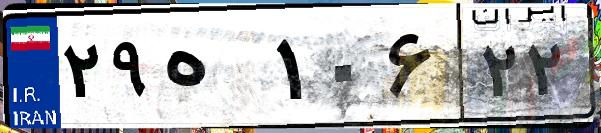0: (330, 28, 385, 110)
1: (270, 28, 330, 110)
2: (57, 26, 110, 100), (475, 38, 525, 113), (525, 38, 570, 115)
6: (385, 28, 445, 110)
9: (110, 28, 158, 98)
ه: (158, 20, 270, 120)
